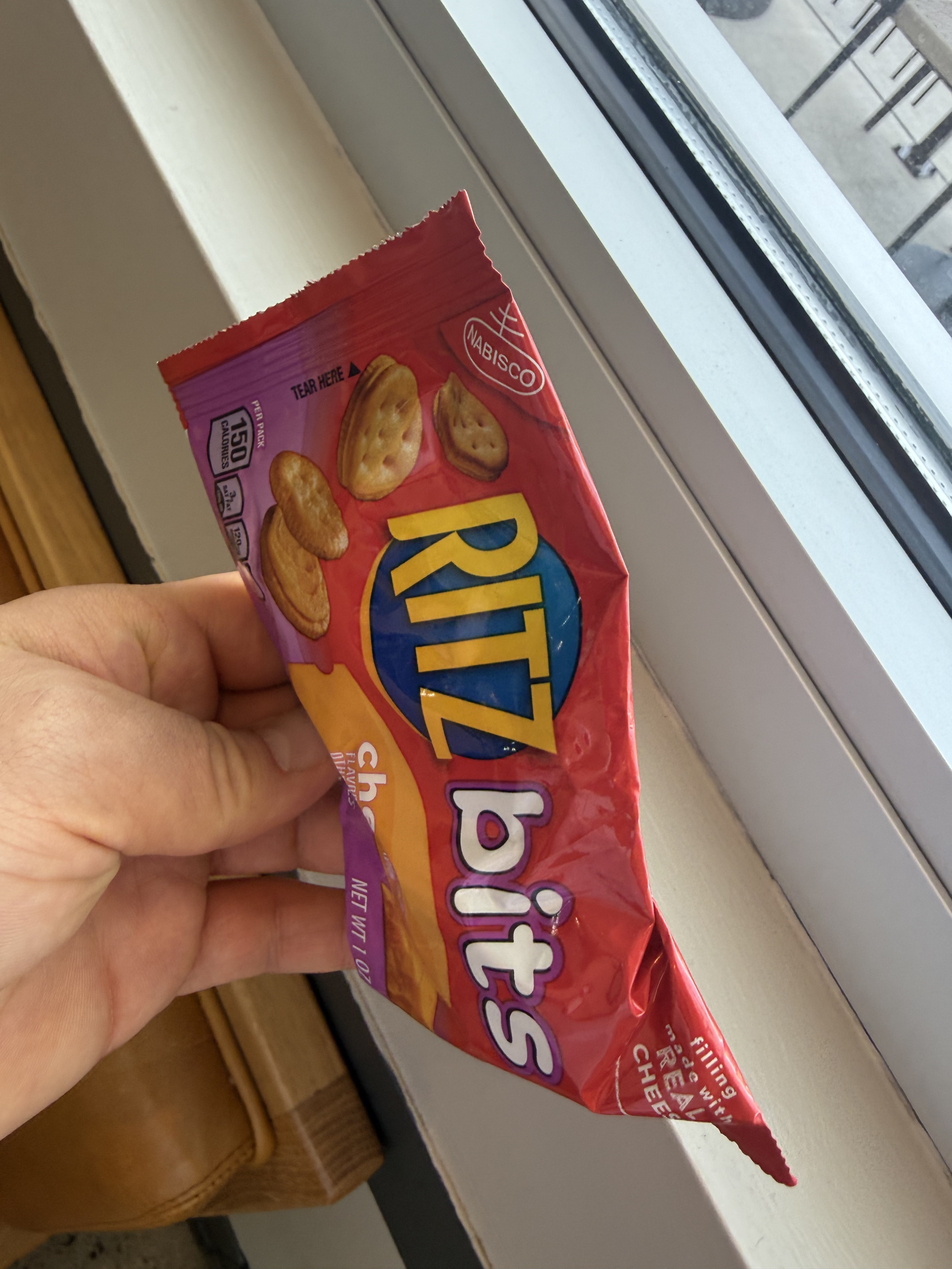ritz_cheese: (151, 311, 538, 1229)
